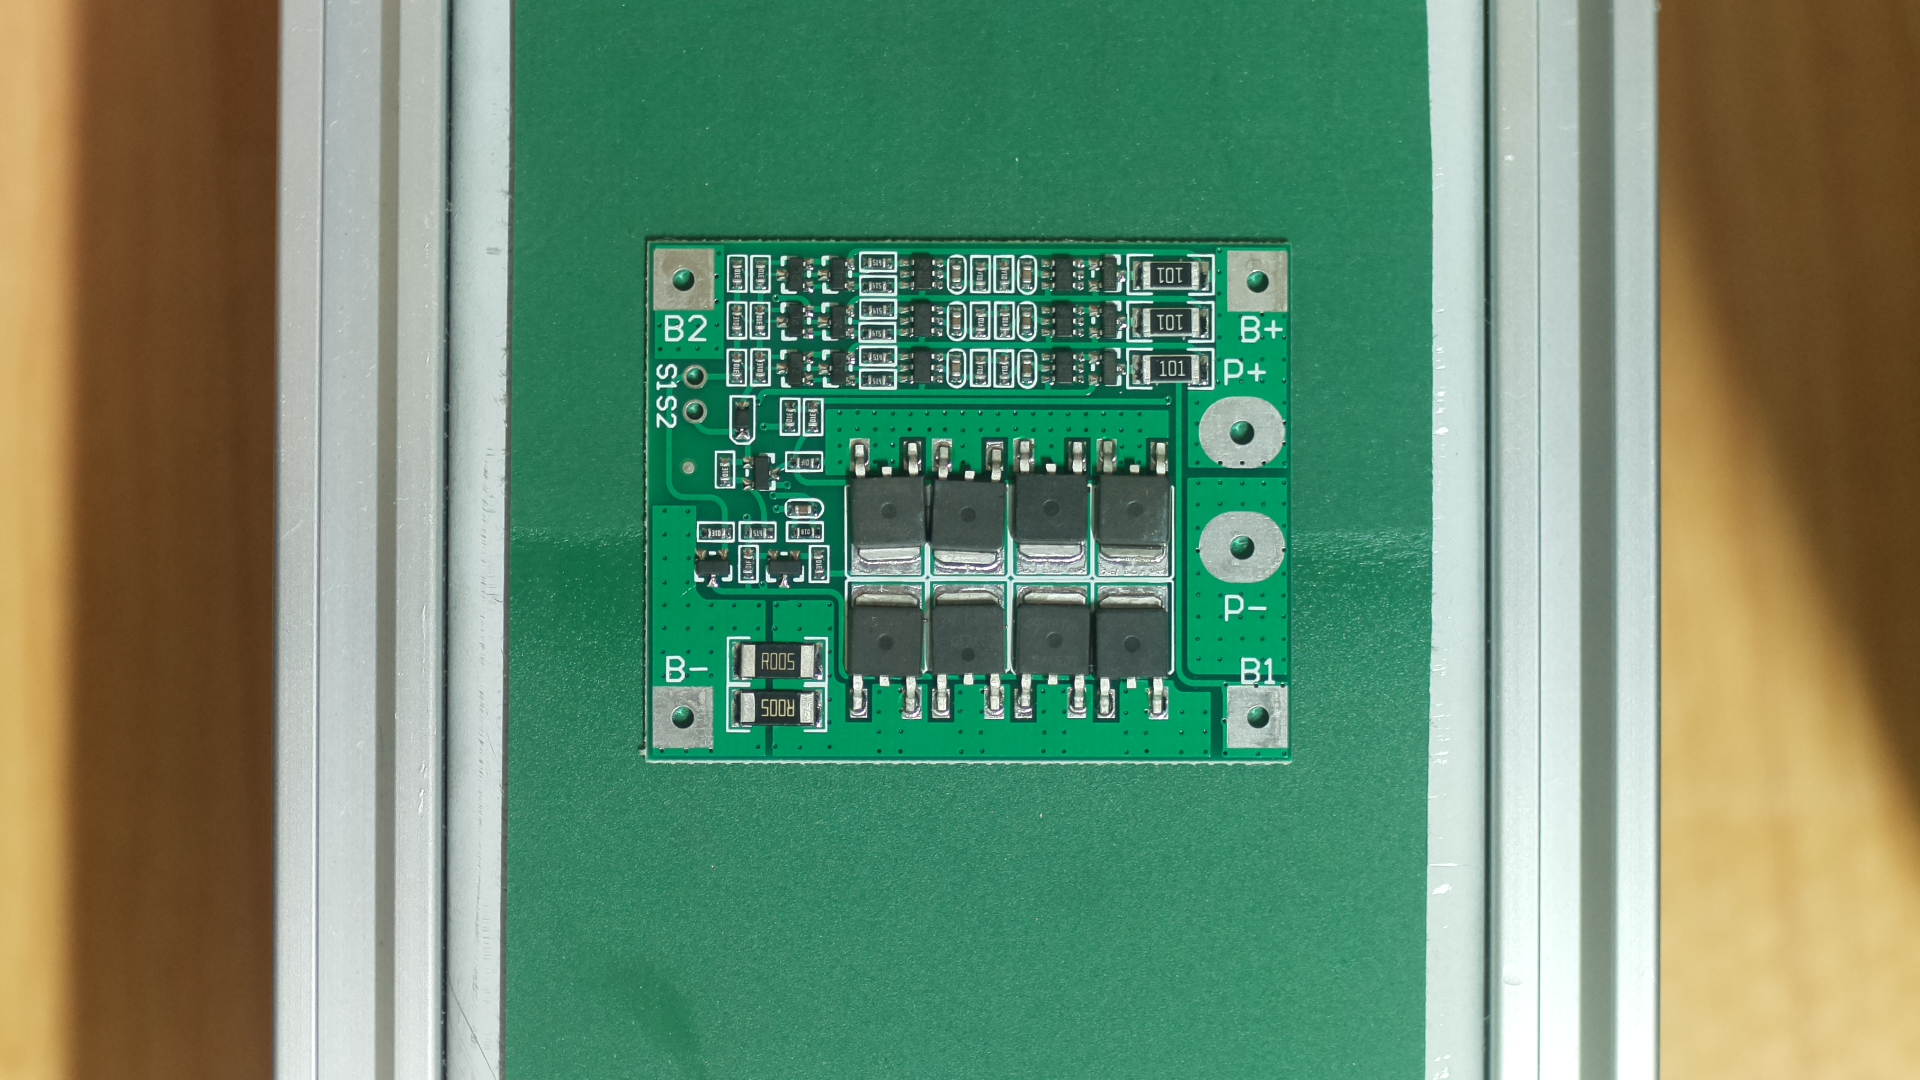C_Normal: (625, 214, 1309, 790)
